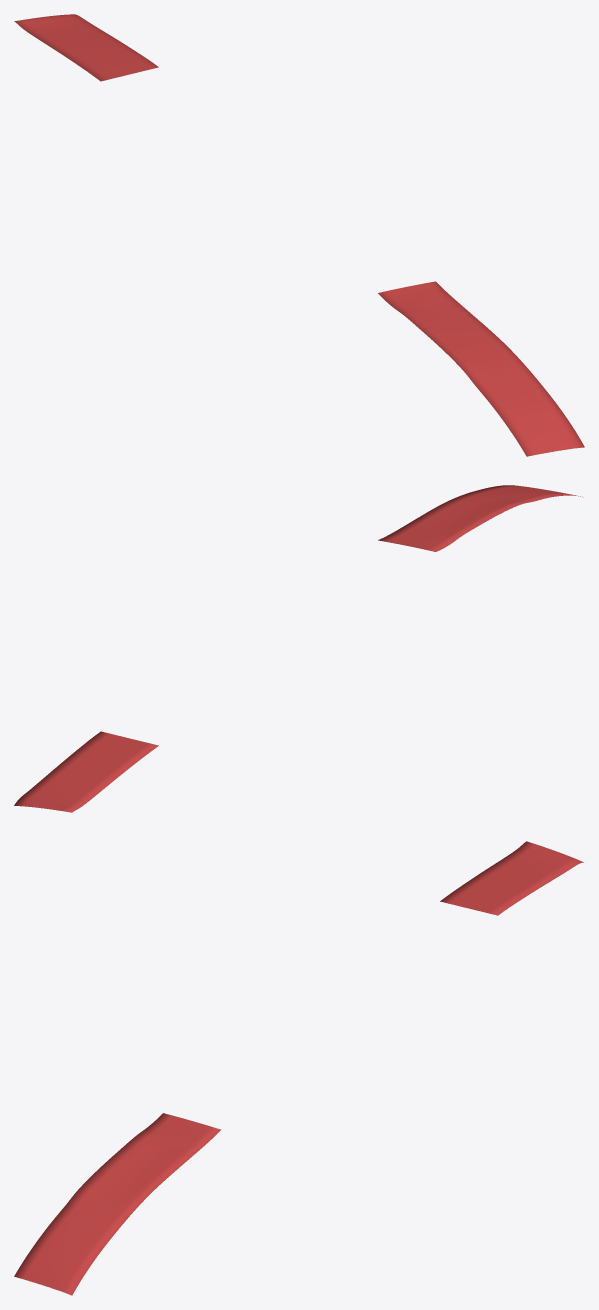
File: DT69_offset_stripe_red.glb
3 renders of one model, top to bottom at view 1: azimuth 30°, elevation 25°; view 2: azimuth 150°, elevation 25°; view 3: azimuth 330°, elevation 25°, orthographic.
Visible parts, largest first — view 1: MOD_NB_DT69_bonnet, MOD_NB_DT69_boot; view 2: MOD_NB_DT69_boot, MOD_NB_DT69_bonnet; view 3: MOD_NB_DT69_bonnet, MOD_NB_DT69_boot.
Boxes of the visible parts, <box> form: MOD_NB_DT69_bonnet: <box>378,281,584,456</box>; MOD_NB_DT69_boot: <box>14,14,158,81</box>; MOD_NB_DT69_boot: <box>14,731,158,812</box>; MOD_NB_DT69_bonnet: <box>378,485,583,551</box>; MOD_NB_DT69_bonnet: <box>14,1113,220,1295</box>; MOD_NB_DT69_boot: <box>440,841,583,915</box>.
Bounding box in the file's own units: 0.2402 × 0.2696 × 3.66.
